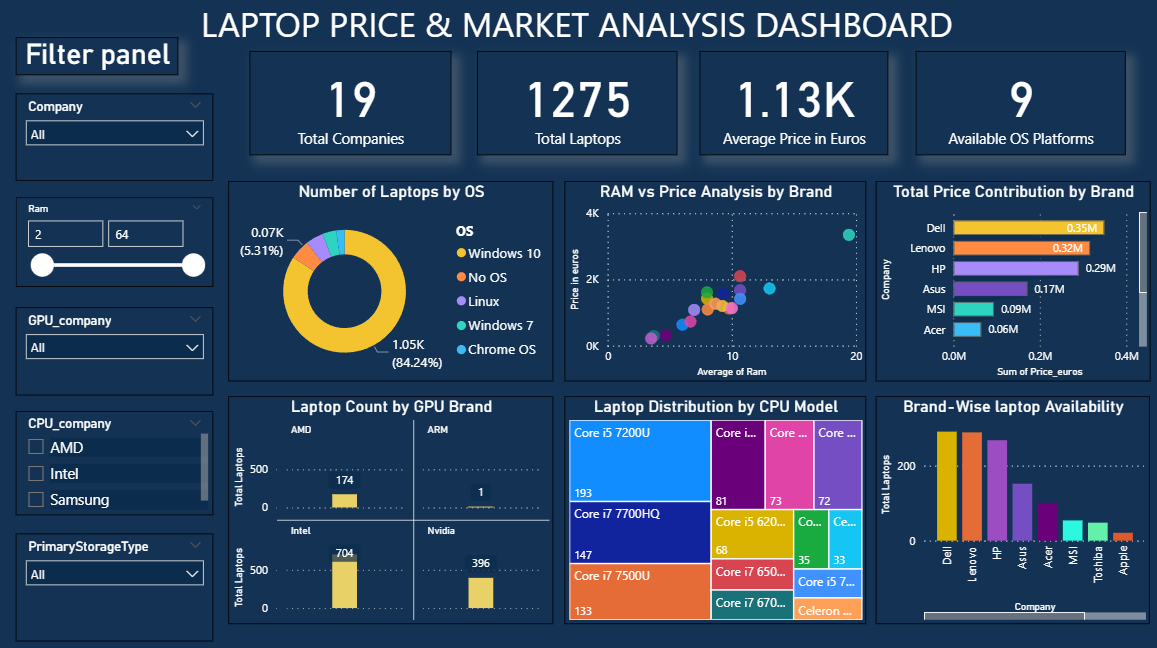

This screenshot's page, from the dashboard's own definition file:
{"tool":"powerbi","page":{"name":"Page 2","canvas":[1280,720],"ordinal":1},"visuals":[{"type":"textbox","box":[172.9,0,927.1,67.1],"z":0},{"type":"card","fields":{"Values":["Count(laptop_prices.Company)"]},"box":[277.1,60,221.4,114.3],"z":1000},{"type":"card","fields":{"Values":["laptop_prices.Total Laptops"]},"box":[527.1,60,220,114.3],"z":2000},{"type":"actionButton","title":"Filter panel","box":[20,45.7,178.6,41.4],"z":3000},{"type":"card","fields":{"Values":["laptop_prices.Average Price"]},"box":[771.4,60,207.1,114.3],"z":4000},{"type":"card","fields":{"Values":["Count(laptop_prices.OS)"]},"box":[1008.6,60,230,114.3],"z":5000},{"type":"slicer","fields":{"Values":["laptop_prices.Company"]},"box":[20,107.1,217.1,95.7],"z":6000},{"type":"slicer","fields":{"Values":["laptop_prices.Ram"]},"box":[20,221.4,217.1,98.6],"z":7000},{"type":"slicer","fields":{"Values":["laptop_prices.GPU_company"]},"box":[20,341.4,217.1,97.1],"z":8000},{"type":"slicer","fields":{"Values":["laptop_prices.CPU_company"]},"box":[20,455.7,217.1,114.3],"z":9000},{"type":"slicer","fields":{"Values":["laptop_prices.PrimaryStorageType"]},"box":[20,590,217.1,118.6],"z":10000},{"type":"donutChart","title":"Number of Laptops by OS","fields":{"Category":["laptop_prices.OS"],"Y":["CountNonNull(laptop_prices.Product)"]},"box":[254.3,202.9,357.1,220],"z":11000},{"type":"scatterChart","title":"RAM vs Price Analysis by Brand","fields":{"X":["Avg(laptop_prices.Ram)"],"Y":["Avg(laptop_prices.Price_euros)"],"Category":["laptop_prices.Company"]},"box":[622.9,202.9,331.4,220],"z":12000},{"type":"barChart","title":"Total Price Contribution by Brand","fields":{"Category":["laptop_prices.Company"],"Y":["Sum(laptop_prices.Price_euros)"]},"box":[964.3,202.9,301.4,220],"z":13000},{"type":"lineStackedColumnComboChart","title":"Laptop Count by GPU Brand","fields":{"Rows":["laptop_prices.GPU_company"],"Y":["laptop_prices.Total Laptops"]},"box":[254.3,438.6,357.1,250],"z":14000},{"type":"treemap","title":"Laptop Distribution by CPU Model","fields":{"Group":["laptop_prices.CPU_model"],"Values":["laptop_prices.Total Laptops"]},"box":[623,439,331,250],"z":15000},{"type":"columnChart","title":"Brand-Wise laptop Availability","fields":{"Category":["laptop_prices.Company"],"Y":["laptop_prices.Total Laptops"]},"box":[964,439,301,250],"z":16000}]}

Visuals, with their boxes in screenshot pixels (x1, y1, x2, y2), scaled from the page's 1280x720 canvas onto the 1157x648 screenshot:
textbox: x1=156, y1=0, x2=994, y2=60
card - Count(laptop_prices.Company): x1=250, y1=54, x2=451, y2=157
card - laptop_prices.Total Laptops: x1=476, y1=54, x2=675, y2=157
"Filter panel" actionButton: x1=18, y1=41, x2=180, y2=78
card - laptop_prices.Average Price: x1=697, y1=54, x2=884, y2=157
card - Count(laptop_prices.OS): x1=912, y1=54, x2=1120, y2=157
slicer - laptop_prices.Company: x1=18, y1=96, x2=214, y2=183
slicer - laptop_prices.Ram: x1=18, y1=199, x2=214, y2=288
slicer - laptop_prices.GPU_company: x1=18, y1=307, x2=214, y2=395
slicer - laptop_prices.CPU_company: x1=18, y1=410, x2=214, y2=513
slicer - laptop_prices.PrimaryStorageType: x1=18, y1=531, x2=214, y2=638
"Number of Laptops by OS" donutChart: x1=230, y1=183, x2=553, y2=381
"RAM vs Price Analysis by Brand" scatterChart: x1=563, y1=183, x2=863, y2=381
"Total Price Contribution by Brand" barChart: x1=872, y1=183, x2=1144, y2=381
"Laptop Count by GPU Brand" lineStackedColumnComboChart: x1=230, y1=395, x2=553, y2=620
"Laptop Distribution by CPU Model" treemap: x1=563, y1=395, x2=862, y2=620
"Brand-Wise laptop Availability" columnChart: x1=871, y1=395, x2=1143, y2=620
